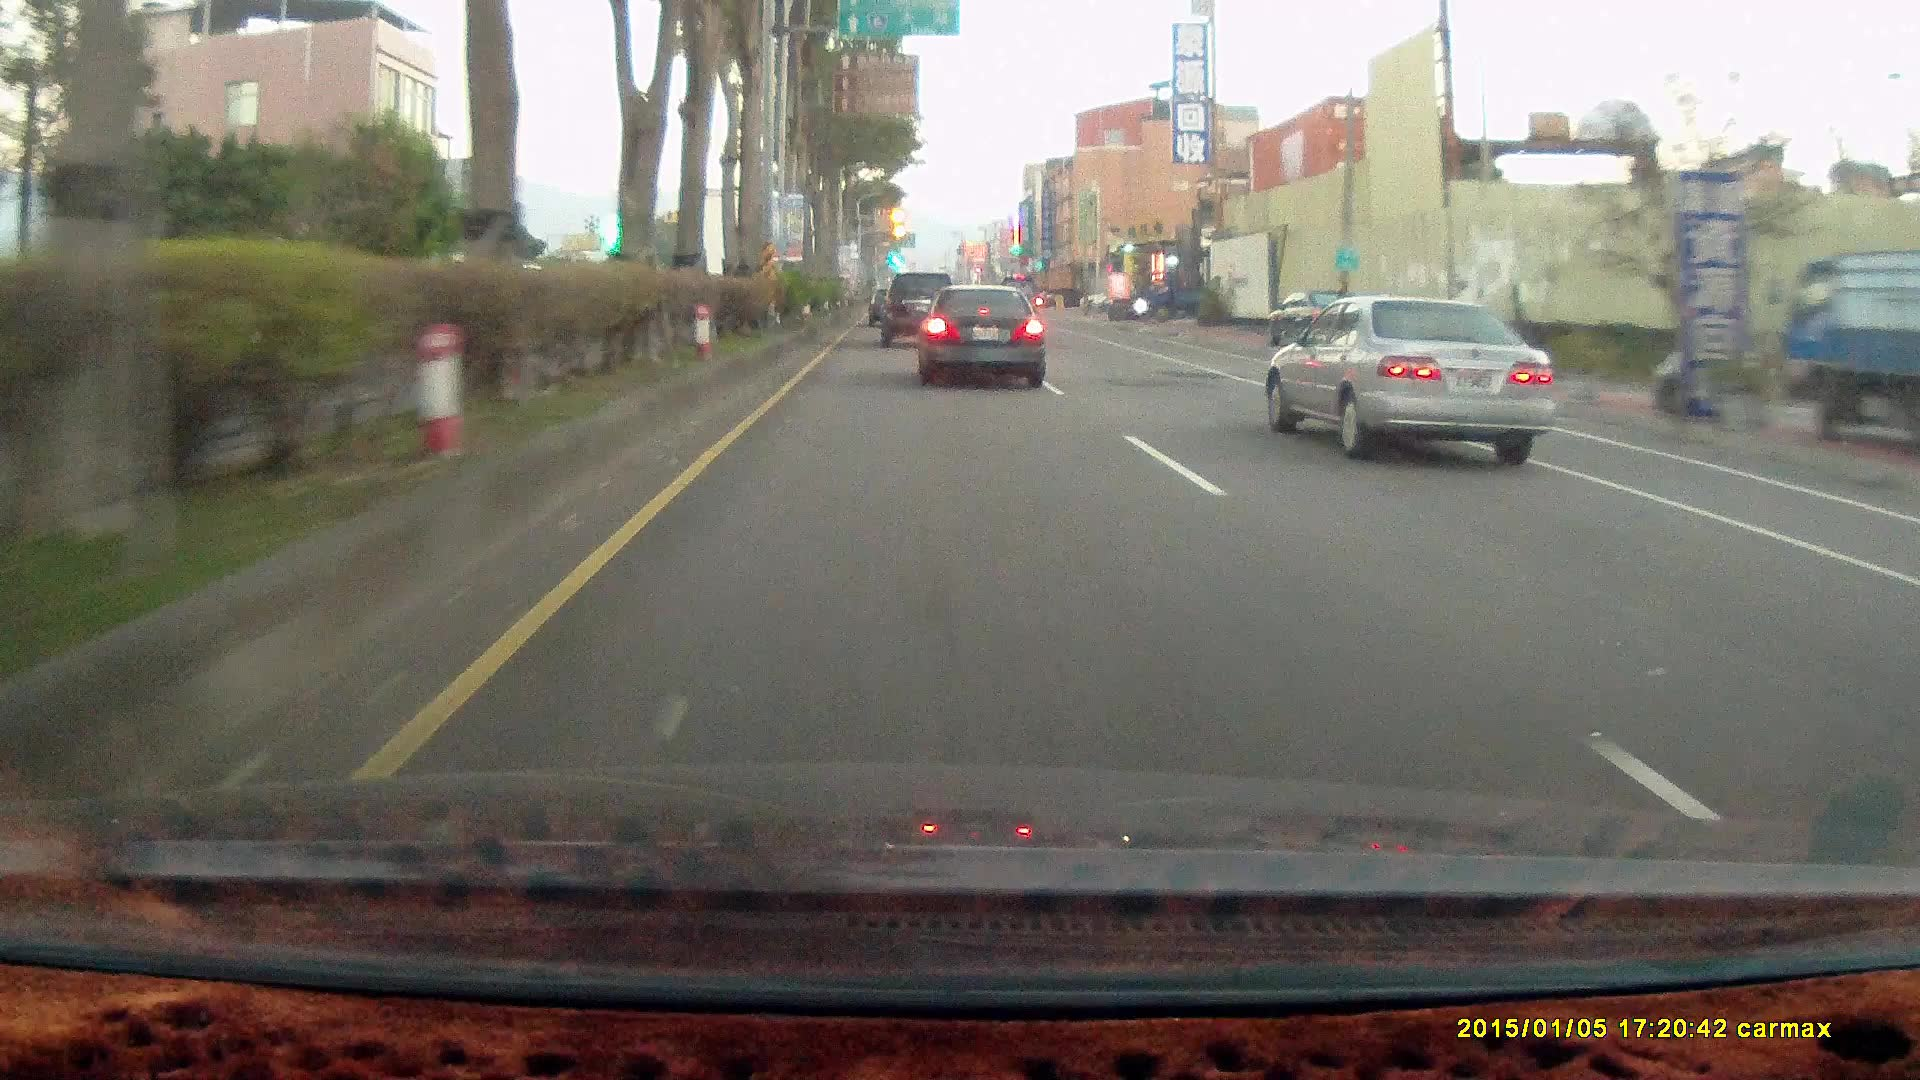vehicle: (1274, 293, 1569, 465), (1265, 294, 1556, 465), (1776, 255, 1919, 458), (913, 281, 1044, 385), (919, 285, 1050, 389), (881, 272, 961, 349), (880, 269, 959, 345), (1133, 270, 1215, 320), (1044, 286, 1085, 307)
